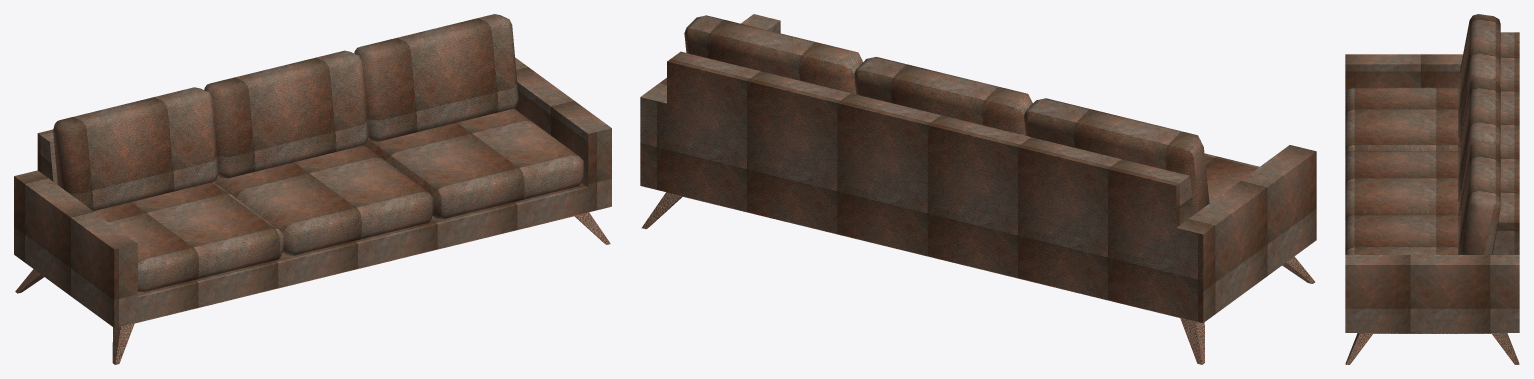
The model's file is Couch.FBX.
3 views of the same model, side by side, from view 1: azimuth 30°, elevation 25°; view 2: azimuth 150°, elevation 25°; view 3: azimuth 270°, elevation 25° (orthographic). The views are drawn at different scales.
Parts seen in each view (by area): view 1: Box01; view 2: Box01; view 3: Box01.
Boxes of the visible parts, box(x1,y1,x2,y2) form: Box01: box(14, 14, 611, 364); Box01: box(640, 14, 1316, 364); Box01: box(1345, 14, 1519, 364).
Bounding box in the file's own units: 2.68 × 0.913 × 0.9359.
Materials: 1 (1 with a texture image).
